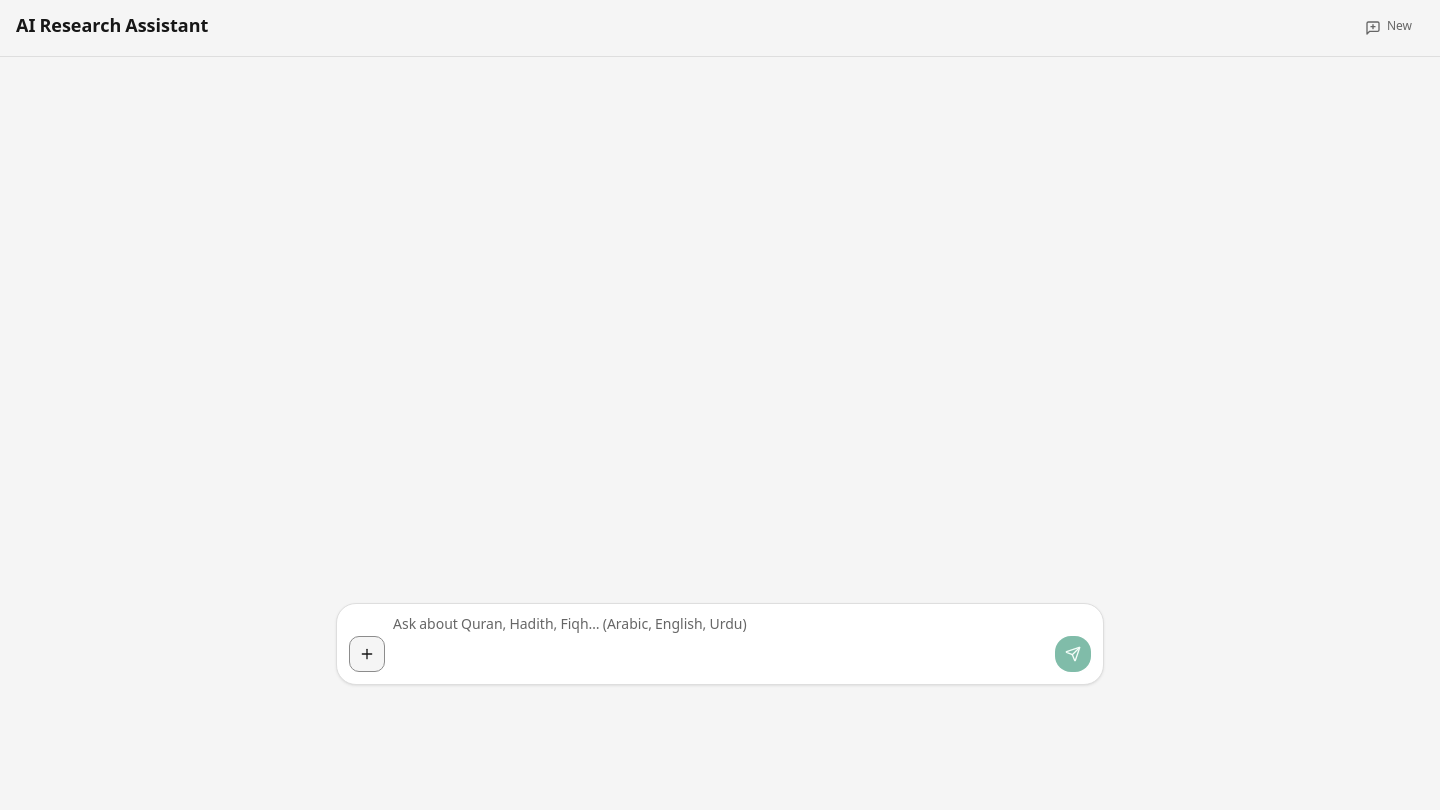
ChatDisplay — baseline (SPEC M10 §1.2 pre-merge snapshot) › always offers SourcePicker via the + hub — no mode gate hides it, no separate row either (SPEC M10 §1.3)
Expected: the button "Choose sources" is not shown
Click the button named "Sources, assist modes & scholarly prompts". click: (367, 654)
box: [349,636,385,672]
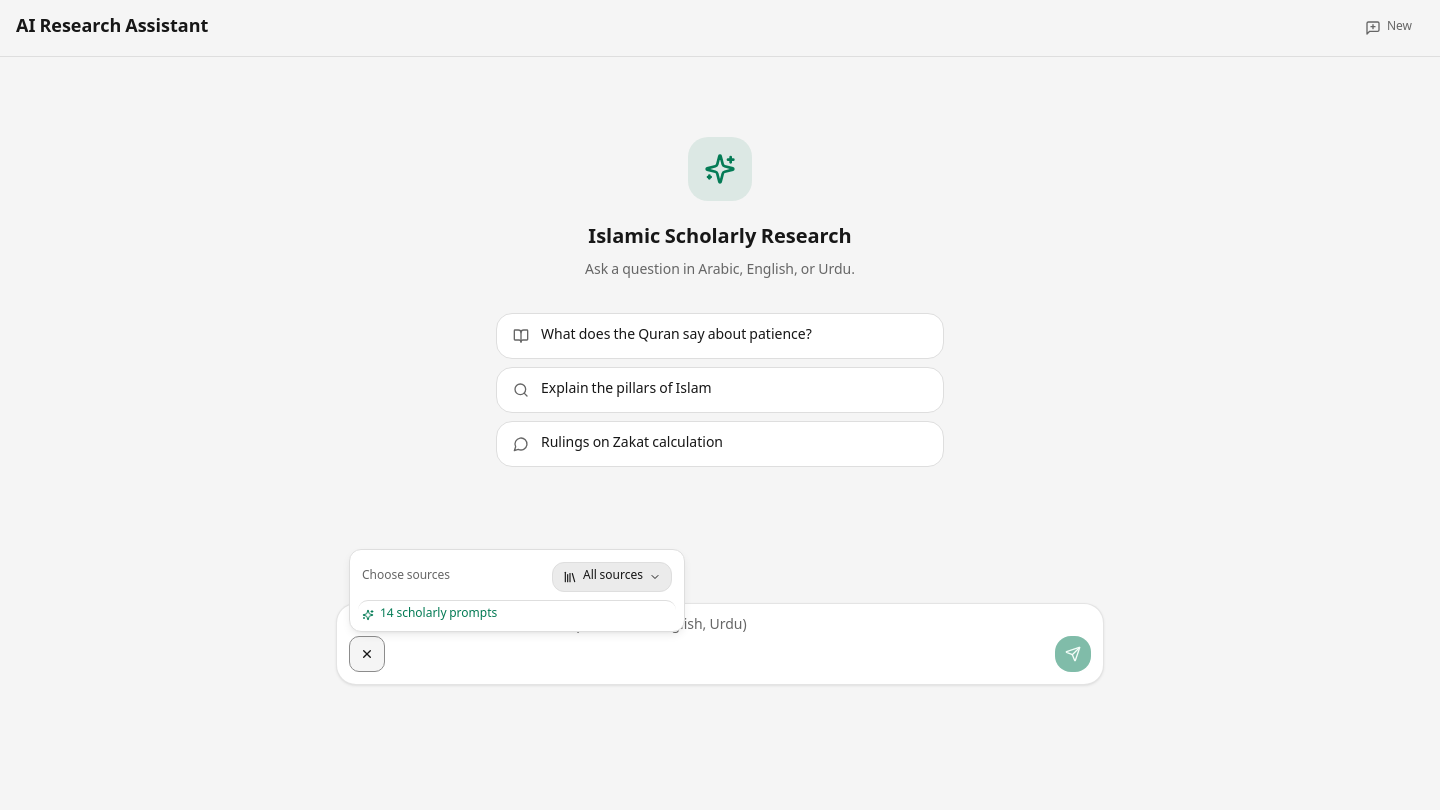
Expected: the button with aria-label "Choose sources" is shown, [552,562,672,592]
